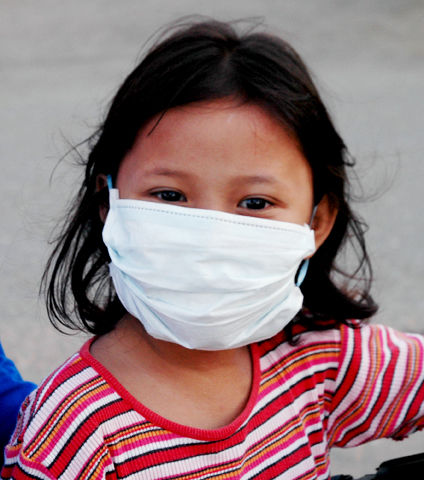with_mask: (92, 108, 332, 355)
